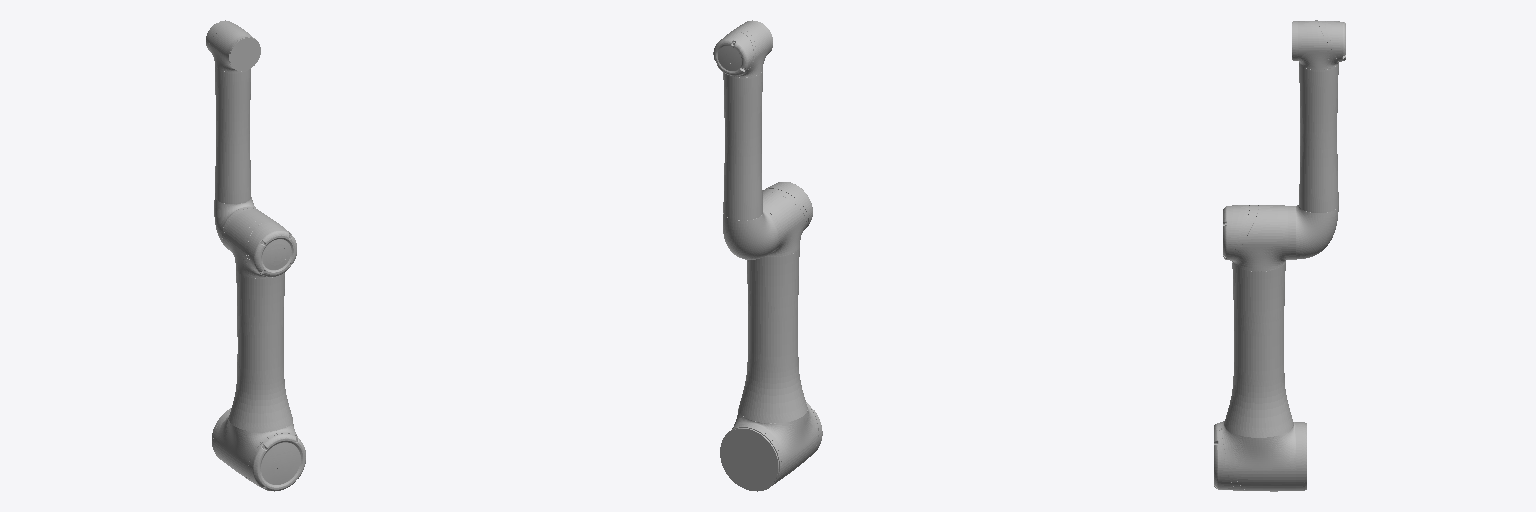
URDF robot description (tm14x):
<?xml version="1.0" encoding="utf-8"?>
<!-- =================================================================================== -->
<!-- |    This document was autogenerated by xacro from tm14x.urdf.xacro               | -->
<!-- |    EDITING THIS FILE BY HAND IS NOT RECOMMENDED                                 | -->
<!-- =================================================================================== -->
<robot name="tm14x">
  <gazebo reference="base">
    <selfCollide>true</selfCollide>
    <material>Gazebo/Residential</material>
  </gazebo>
  <gazebo reference="link_0">
    <selfCollide>true</selfCollide>
    <material>Gazebo/Motorway</material>
  </gazebo>
  <gazebo reference="link_1">
    <selfCollide>true</selfCollide>
    <material>Gazebo/Footway</material>
  </gazebo>
  <gazebo reference="link_2">
    <selfCollide>true</selfCollide>
    <material>Gazebo/Pedestrian</material>
  </gazebo>
  <gazebo reference="link_3">
    <selfCollide>true</selfCollide>
    <material>Gazebo/Footway</material>
  </gazebo>
  <gazebo reference="link_4">
    <selfCollide>true</selfCollide>
    <material>Gazebo/Motorway</material>
  </gazebo>
  <gazebo reference="link_5">
    <selfCollide>true</selfCollide>
    <material>Gazebo/Pedestrian</material>
  </gazebo>
  <gazebo reference="link_6">
    <selfCollide>true</selfCollide>
    <material>Gazebo/DarkGrey</material>
  </gazebo>
  <gazebo>
    <plugin filename="libgazebo_ros_control.so" name="gazebo_ros_control">
      <robotNamespace>/</robotNamespace>
      <robotSimType>gazebo_ros_control/DefaultRobotHWSim</robotSimType>
    </plugin>
  </gazebo>
  <transmission name="trans_1">
    <type>transmission_interface/SimpleTransmission</type>
    <joint name="shoulder_1_joint">
      <hardwareInterface>hardware_interface/PositionJointInterface</hardwareInterface>
    </joint>
    <actuator name="motor_1">
      <mechanicalReduction>1</mechanicalReduction>
    </actuator>
  </transmission>
  <transmission name="trans_2">
    <type>transmission_interface/SimpleTransmission</type>
    <joint name="shoulder_2_joint">
      <hardwareInterface>hardware_interface/PositionJointInterface</hardwareInterface>
    </joint>
    <actuator name="motor_2">
      <mechanicalReduction>1</mechanicalReduction>
    </actuator>
  </transmission>
  <transmission name="trans_3">
    <type>transmission_interface/SimpleTransmission</type>
    <joint name="elbow_joint">
      <hardwareInterface>hardware_interface/PositionJointInterface</hardwareInterface>
    </joint>
    <actuator name="motor_3">
      <mechanicalReduction>1</mechanicalReduction>
    </actuator>
  </transmission>
  <transmission name="trans_4">
    <type>transmission_interface/SimpleTransmission</type>
    <joint name="wrist_1_joint">
      <hardwareInterface>hardware_interface/PositionJointInterface</hardwareInterface>
    </joint>
    <actuator name="motor_4">
      <mechanicalReduction>1</mechanicalReduction>
    </actuator>
  </transmission>
  <transmission name="trans_5">
    <type>transmission_interface/SimpleTransmission</type>
    <joint name="wrist_2_joint">
      <hardwareInterface>hardware_interface/PositionJointInterface</hardwareInterface>
    </joint>
    <actuator name="motor_5">
      <mechanicalReduction>1</mechanicalReduction>
    </actuator>
  </transmission>
  <transmission name="trans_6">
    <type>transmission_interface/SimpleTransmission</type>
    <joint name="wrist_3_joint">
      <hardwareInterface>hardware_interface/PositionJointInterface</hardwareInterface>
    </joint>
    <actuator name="motor_6">
      <mechanicalReduction>1</mechanicalReduction>
    </actuator>
  </transmission>
  <material name="none">
    <color rgba="0.0 0.0 0.0 1.0"/>
  </material>
  <material name="lightgrey">
    <color rgba="0.5 0.5 0.5 1.0"/>
  </material>
  <material name="grey">
    <color rgba="0.75 0.75 0.75 1.0"/>
  </material>
  <material name="white">
    <color rgba="0.95 0.95 0.95 1.0"/>
  </material>
  <material name="red">
    <color rgba="0.95 0.0 0.0 1.0"/>
  </material>
  <material name="orange">
    <color rgba="1.0 0.5 0.0 1.0"/>
  </material>
  <material name="yellow">
    <color rgba="1.0 1.0 0.0 1.0"/>
  </material>
  <material name="green">
    <color rgba="0.0 1.0 0.0 1.0"/>
  </material>
  <material name="blue">
    <color rgba="0.0 0.0 1.0 1.0"/>
  </material>
  <material name="indigo">
    <color rgba="0.3 0.3 0.6 1.0"/>
  </material>
  <material name="violet">
    <color rgba="0.6 0.0 1.0 1.0"/>
  </material>
  <material name="black">
    <color rgba="0.0 0.0 0.0 1.0"/>
  </material>
  <material name="darkolive">
    <color rgba="0.3 0.3 0.25 1.0"/>
  </material>
  <!--LinkDescription-->
  <link name="link_0">
    <visual>
      <geometry>
        <mesh filename="package://tm_description/meshes/tm12/visual/tm12-base.stl"/>
      </geometry>
      <material name="grey"/>
    </visual>
    <collision>
      <geometry>
        <mesh filename="package://tm_description/meshes/tm12/collision/tm12-base_c.stl"/>
      </geometry>
    </collision>
    <inertial>
      <mass value="1.0"/>
      <origin rpy="0.000000 0.000000 0.000000" xyz="0.000000 0.000000 0.000000"/>
      <inertia ixx="0.00110833289" ixy="0.0" ixz="0.0" iyy="0.00110833289" iyz="0.0" izz="0.0018"/>
    </inertial>
  </link>
  <joint name="shoulder_1_joint" type="revolute">
    <parent link="link_0"/>
    <child link="link_1"/>
    <origin rpy="0.000000 -0.000000 0.000000" xyz="0.000000 0.000000 0.165200"/>
    <axis xyz="0 0 1"/>
    <!--limit-->
    <limit effort="353" lower="-4.71238898038" upper="4.71238898038" velocity="2.09439510239"/>
    <dynamics damping="0.0" friction="0.0"/>
  </joint>
  <link name="link_1">
    <visual>
      <geometry>
        <mesh filename="package://tm_description/meshes/tm12/visual/tmr_750w_01.stl"/>
      </geometry>
      <material name="grey"/>
    </visual>
    <collision>
      <geometry>
        <mesh filename="package://tm_description/meshes/tm12/collision/tmr_750w_01_c.stl"/>
      </geometry>
    </collision>
    <inertial>
      <origin rpy="0.000000 0.000000 0.000000" xyz="0.000000 0.000000 0.000000"/>
      <mass value="7.6"/>
      <inertia ixx="0.020289334" ixy="0.000000" ixz="0.000000" iyy="0.020289334" iyz="0.000000" izz="0.021396271"/>
    </inertial>
  </link>
  <joint name="shoulder_2_joint" type="revolute">
    <parent link="link_1"/>
    <child link="link_2"/>
    <origin rpy="-1.570796 -1.570796 0.000000" xyz="0.000000 0.000000 0.000000"/>
    <axis xyz="0 0 1"/>
    <!--limit-->
    <limit effort="353" lower="-3.14159265359" upper="3.14159265359" velocity="2.09439510239"/>
    <dynamics damping="0.0" friction="0.0"/>
  </joint>
  <link name="link_2">
    <visual>
      <geometry>
        <mesh filename="package://tm_description/meshes/tm14/visual/tm14_arm1.stl"/>
      </geometry>
      <material name="grey"/>
    </visual>
    <collision>
      <geometry>
        <mesh filename="package://tm_description/meshes/tm14/collision/tm14_arm1_c.stl"/>
      </geometry>
    </collision>
    <inertial>
      <origin rpy="0.000000 0.000000 0.000000" xyz="0.000000 0.000000 0.000000"/>
      <mass value="14.0239"/>
      <inertia ixx="0.071505715" ixy="0.000000" ixz="0.000000" iyy="1.1758789" iyz="0.000000" izz="1.2033933"/>
    </inertial>
  </link>
  <joint name="elbow_joint" type="revolute">
    <parent link="link_2"/>
    <child link="link_3"/>
    <origin rpy="0.000000 -0.000000 0.000000" xyz="0.536100 0.000000 0.000000"/>
    <axis xyz="0 0 1"/>
    <!--limit-->
    <limit effort="157" lower="-2.84488668075" upper="2.84488668075" velocity="3.14159265359"/>
    <dynamics damping="0.0" friction="0.0"/>
  </joint>
  <link name="link_3">
    <visual>
      <geometry>
        <mesh filename="package://tm_description/meshes/tm14/visual/tm14_arm2.stl"/>
      </geometry>
      <material name="grey"/>
    </visual>
    <collision>
      <geometry>
        <mesh filename="package://tm_description/meshes/tm14/collision/tm14_arm2_c.stl"/>
      </geometry>
    </collision>
    <inertial>
      <origin rpy="0.000000 0.000000 0.000000" xyz="0.000000 0.000000 0.000000"/>
      <mass value="3.3577"/>
      <inertia ixx="0.009755469" ixy="0.000000" ixz="0.000000" iyy="0.16334719" iyz="0.000000" izz="0.16656678"/>
    </inertial>
  </link>
  <joint name="wrist_1_joint" type="revolute">
    <parent link="link_3"/>
    <child link="link_4"/>
    <origin rpy="0.000000 -0.000000 1.570796" xyz="0.457900 0.000000 -0.156300"/>
    <axis xyz="0 0 1"/>
    <!--limit-->
    <limit effort="54" lower="-3.14159265359" upper="3.14159265359" velocity="2.61799387799"/>
    <dynamics damping="0.0" friction="0.0"/>
  </joint>
  <link name="link_4">
    <visual>
      <geometry>
        <mesh filename="package://tm_description/meshes/tm5-900/visual/tmr_100w_01.stl"/>
      </geometry>
      <material name="grey"/>
    </visual>
    <collision>
      <geometry>
        <mesh filename="package://tm_description/meshes/tm5-900/collision/tmr_100w_01_c.stl"/>
      </geometry>
    </collision>
    <inertial>
      <origin rpy="0.000000 0.000000 0.000000" xyz="0.000000 0.000000 0.000000"/>
      <mass value="1.576"/>
      <inertia ixx="0.002058405" ixy="0.000000" ixz="0.000000" iyy="0.002563079" iyz="0.000000" izz="0.00264321"/>
    </inertial>
  </link>
  <joint name="wrist_2_joint" type="revolute">
    <parent link="link_4"/>
    <child link="link_5"/>
    <origin rpy="1.570796 -0.000000 0.000000" xyz="0.000000 -0.106000 0.000000"/>
    <axis xyz="0 0 1"/>
    <!--limit-->
    <limit effort="54" lower="-3.14159265359" upper="3.14159265359" velocity="2.61799387799"/>
    <dynamics damping="0.0" friction="0.0"/>
  </joint>
  <link name="link_5">
    <visual>
      <geometry>
        <mesh filename="package://tm_description/meshes/tm5-900/visual/tmr_100w_02.stl"/>
      </geometry>
      <material name="grey"/>
    </visual>
    <collision>
      <geometry>
        <mesh filename="package://tm_description/meshes/tm5-900/collision/tmr_100w_02_c.stl"/>
      </geometry>
    </collision>
    <inertial>
      <origin rpy="0.000000 0.000000 0.000000" xyz="0.000000 0.000000 0.000000"/>
      <mass value="1.576"/>
      <inertia ixx="0.002058405" ixy="0.000000" ixz="0.000000" iyy="0.002563079" iyz="0.000000" izz="0.00264321"/>
    </inertial>
  </link>
  <joint name="wrist_3_joint" type="revolute">
    <parent link="link_5"/>
    <child link="link_6"/>
    <origin rpy="1.570796 -0.000000 0.000000" xyz="0.000000 -0.113150 0.000000"/>
    <axis xyz="0 0 1"/>
    <!--limit-->
    <limit effort="54" lower="-4.71238898038" upper="4.71238898038" velocity="3.14159265359"/>
    <dynamics damping="0.0" friction="0.0"/>
  </joint>
  <link name="link_6">
    <visual>
      <geometry>
        <mesh filename="package://tm_description/meshes/tm5-900/visual/tmr_iox.stl"/>
      </geometry>
      <material name="grey"/>
    </visual>
    <collision>
      <geometry>
        <mesh filename="package://tm_description/meshes/tm5-900/collision/tmr_iox_c.stl"/>
      </geometry>
    </collision>
    <inertial>
      <origin rpy="0.000000 0.000000 0.000000" xyz="0.000000 0.000000 0.000000"/>
      <mass value="0.31"/>
      <inertia ixx="0.000226642" ixy="0.000000" ixz="0.000000" iyy="0.000226642" iyz="0.000000" izz="0.000286595"/>
    </inertial>
  </link>
  <joint name="flange_fixed_joint" type="fixed">
    <parent link="link_6"/>
    <child link="flange_link"/>
    <origin rpy="0.000000 0.000000 0.000000" xyz="0.000000 0.000000 0.000000"/>
  </joint>
  <link name="flange_link"/>
  <link name="base"/>
  <joint name="base_fixed_joint" type="fixed">
    <parent link="base"/>
    <child link="link_0"/>
    <origin rpy="0.000000 0.000000 0.000000" xyz="0.000000 0.000000 0.000000"/>
  </joint>
  <link name="tool0"/>
  <joint name="flange_link-tool0" type="fixed">
    <parent link="flange_link"/>
    <child link="tool0"/>
    <origin rpy="0.000000 0.000000 0.000000" xyz="0.000000 0.000000 0.000000"/>
  </joint>
  <!--LinkDescription-->
  <link name="world"/>
  <joint name="world_joint" type="fixed">
    <parent link="world"/>
    <child link="base"/>
    <origin rpy="0 0 0" xyz="0 0 0"/>
  </joint>
</robot>

--- Render facts (derived) ---
Views: 3 orthographic renders of the robot side by side, from view 1: azimuth 30°, elevation 25°; view 2: azimuth 150°, elevation 25°; view 3: azimuth 270°, elevation 25°.
Robot: tm14x — 11 links, 10 joints (6 revolute, 4 fixed); root link world; default pose: every joint at zero.
Visible links, largest first — view 1: link_2, link_3; view 2: link_2, link_3; view 3: link_2, link_3.
Boxes of the visible links, bbox=[...] form: link_2: bbox=[212, 207, 305, 491]; link_3: bbox=[206, 20, 260, 246]; link_2: bbox=[720, 182, 822, 491]; link_3: bbox=[713, 20, 777, 259]; link_2: bbox=[1214, 205, 1306, 491]; link_3: bbox=[1292, 20, 1345, 259].
Size in the robot's own frame: 0.1516 by 0.2868 by 1.11 metres.
2 mesh visuals loaded from 7 distinct referenced files (2 binary STL); not drawn: 5 (reference not matched to a file when rendering).